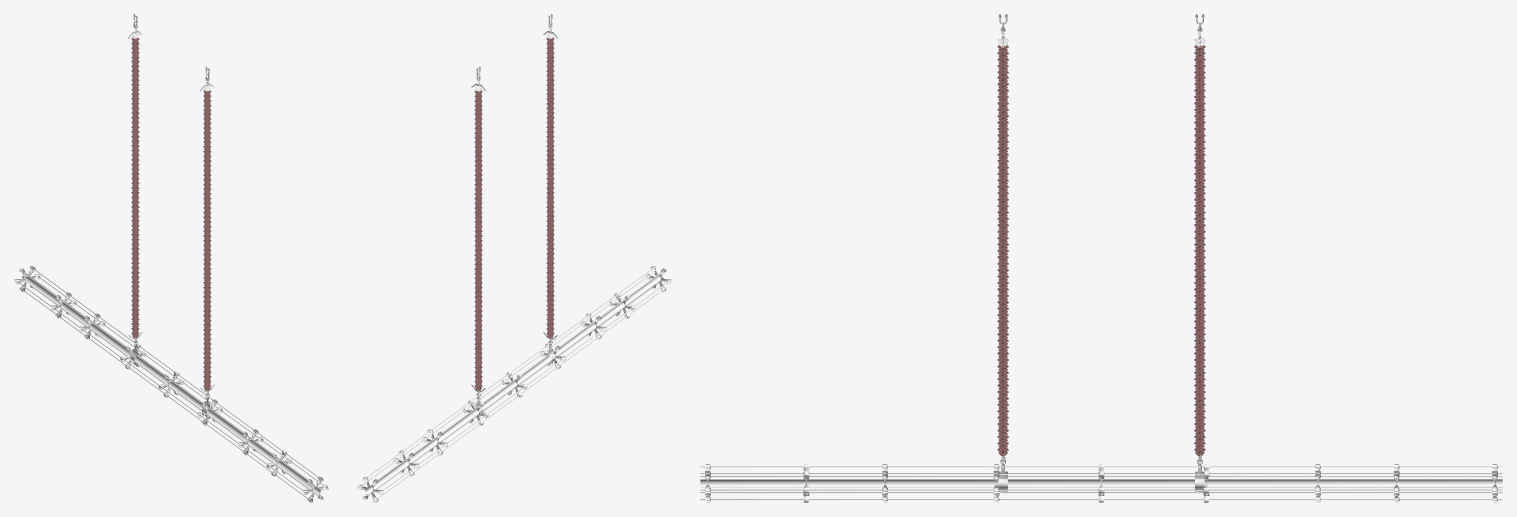
File: 750-TXC-6-3.glb
3 renders of one model, left to right at view 1: azimuth 30°, elevation 25°; view 2: azimuth 150°, elevation 25°; view 3: azimuth 270°, elevation 25°, orthographic. The views are drawn at different scales.
Parts seen in each view (by area): view 1: Default; view 2: Default; view 3: Default.
Part boxes in pixels (x1=…): Default: x1=14, y1=14, x2=328, y2=502; Default: x1=357, y1=14, x2=671, y2=502; Default: x1=700, y1=14, x2=1502, y2=502.
Size of the model in its own units: 0.594 by 8.16 by 12.23.
